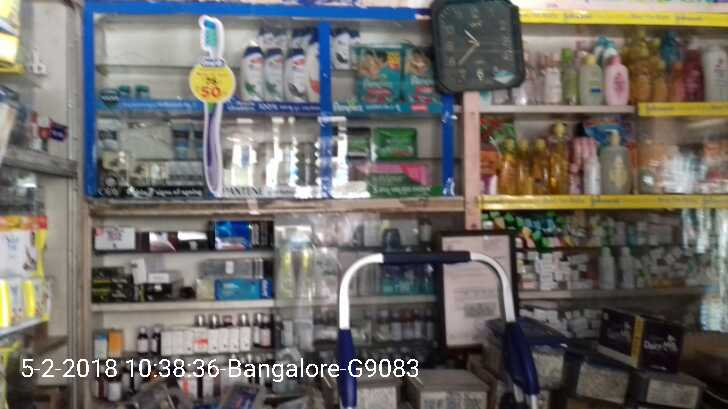beauty: (238, 45, 264, 105), (284, 52, 310, 104), (97, 147, 128, 189), (295, 142, 318, 188), (263, 49, 282, 102), (274, 140, 296, 184), (146, 161, 166, 190), (131, 160, 148, 191)
pharmacy: (348, 156, 431, 197), (352, 45, 403, 104), (400, 49, 435, 106), (368, 124, 417, 161), (114, 84, 133, 101), (137, 84, 150, 101)
